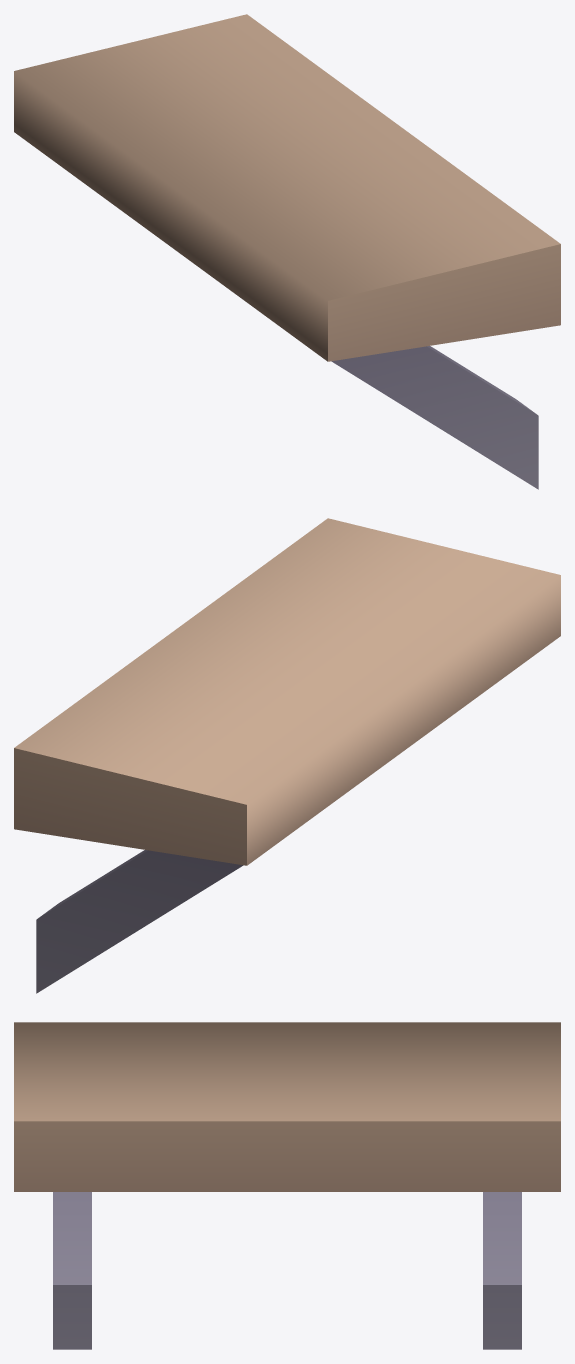
Rendered from shelf-support-short (%wall).glb.
The picture shows the model from 3 angles, top to bottom: view 1: azimuth 30°, elevation 25°; view 2: azimuth 150°, elevation 25°; view 3: azimuth 270°, elevation 25°; orthographic projection. The views are drawn at different scales.
Visible parts, largest first — view 1: shelf-support-short (%wall); view 2: shelf-support-short (%wall); view 3: shelf-support-short (%wall).
Part boxes in pixels (<box>): shelf-support-short (%wall): <box>14,14,560,489</box>; shelf-support-short (%wall): <box>14,518,560,993</box>; shelf-support-short (%wall): <box>14,1022,560,1349</box>.
Bounding box in the file's own units: 0.3 × 0.3225 × 0.7.
